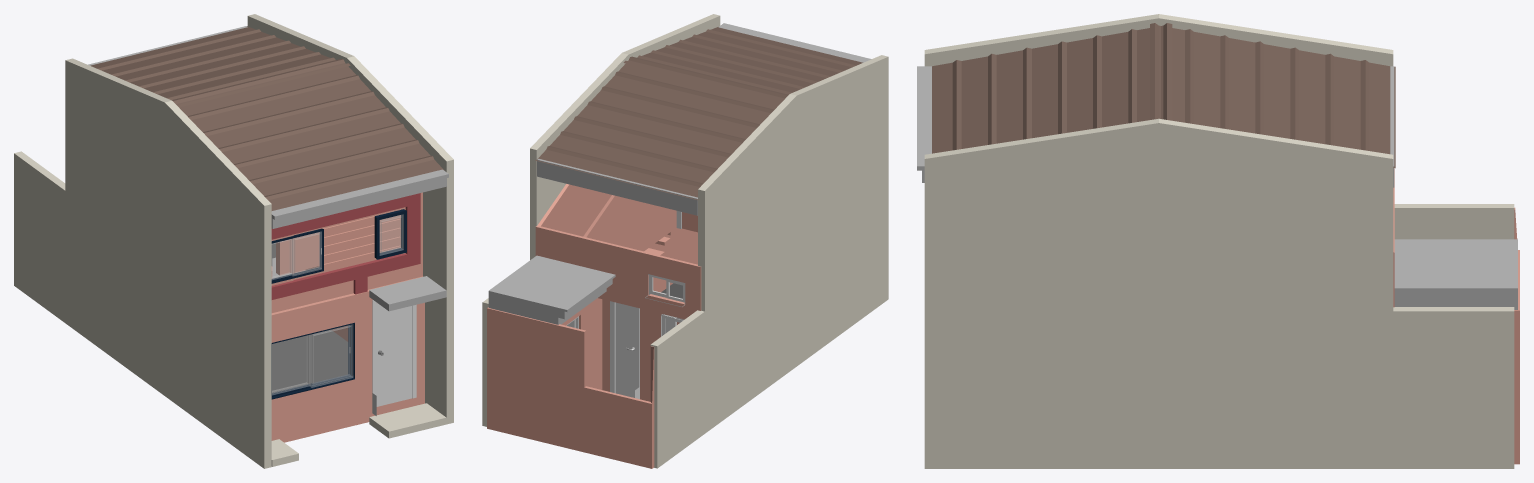
Rendered from modelH.glb.
3 views of the same model, side by side, from view 1: azimuth 30°, elevation 25°; view 2: azimuth 150°, elevation 25°; view 3: azimuth 270°, elevation 25° (orthographic). The views are drawn at different scales.
Visible parts, largest first — view 1: Cube.003, Plane, Wall.001, wall.003, Cube.007, roof, Floor.001, Door.010, Window.L.009, Window.R.007, Cube.001, Cube.006 (+8 smaller); view 2: Cube.003, Plane, Wall.001, wall.003, Roof.001, roof, Door.008, DoorFrame.008; view 3: Cube.003, Plane, Roof.001, roof, Wall.001.
Part boxes in pixels (bbox=[...]): Cube.003: bbox=[14, 14, 453, 468]; Plane: bbox=[90, 26, 444, 210]; Wall.001: bbox=[271, 266, 424, 442]; wall.003: bbox=[271, 192, 422, 312]; Cube.007: bbox=[271, 193, 420, 299]; roof: bbox=[88, 26, 448, 228]; Floor.001: bbox=[272, 330, 348, 392]; Door.010: bbox=[376, 303, 412, 406]; Window.L.009: bbox=[309, 324, 353, 387]; Window.R.007: bbox=[272, 335, 310, 394]; Cube.001: bbox=[369, 403, 446, 438]; Cube.006: bbox=[369, 276, 446, 311]; Cube.003: bbox=[482, 14, 888, 468]; Plane: bbox=[535, 27, 862, 200]; Wall.001: bbox=[487, 228, 697, 468]; wall.003: bbox=[535, 184, 701, 319]; Roof.001: bbox=[488, 255, 615, 324]; roof: bbox=[537, 23, 871, 215]; Door.008: bbox=[615, 302, 634, 397]; DoorFrame.008: bbox=[610, 301, 639, 399]; Cube.003: bbox=[924, 14, 1514, 468]; Plane: bbox=[932, 23, 1395, 168]; Roof.001: bbox=[1394, 239, 1517, 309]; roof: bbox=[917, 66, 1394, 187]; Wall.001: bbox=[1514, 207, 1519, 464].
Bounding box in the file's own units: 3.86 × 5.71 × 9.02.
